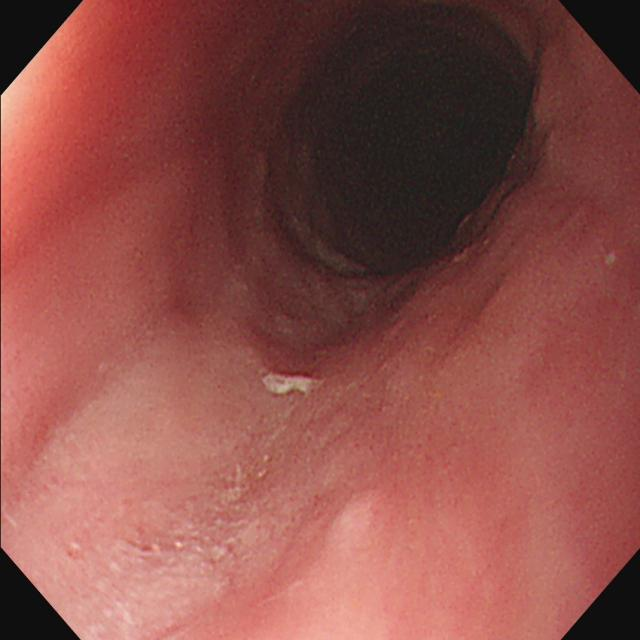E: (254, 2, 555, 293)
J: (260, 371, 325, 399)
